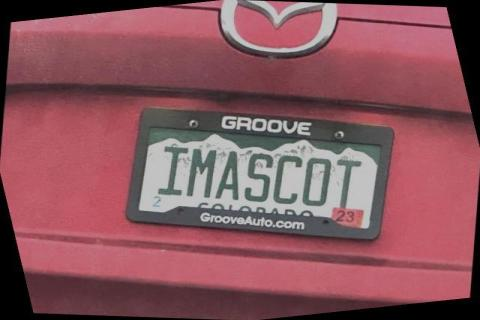LicensePlate: (122, 106, 392, 240)
